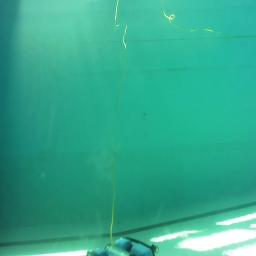front: (86, 236, 158, 256)
